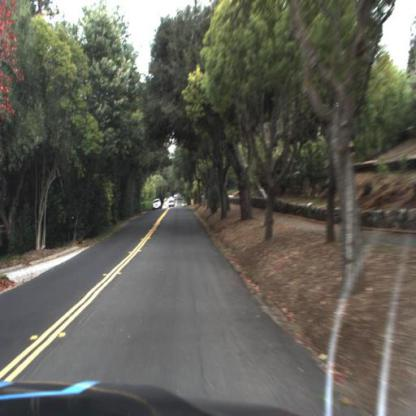car: (147, 194, 163, 212), (152, 194, 162, 210), (166, 194, 176, 210)
